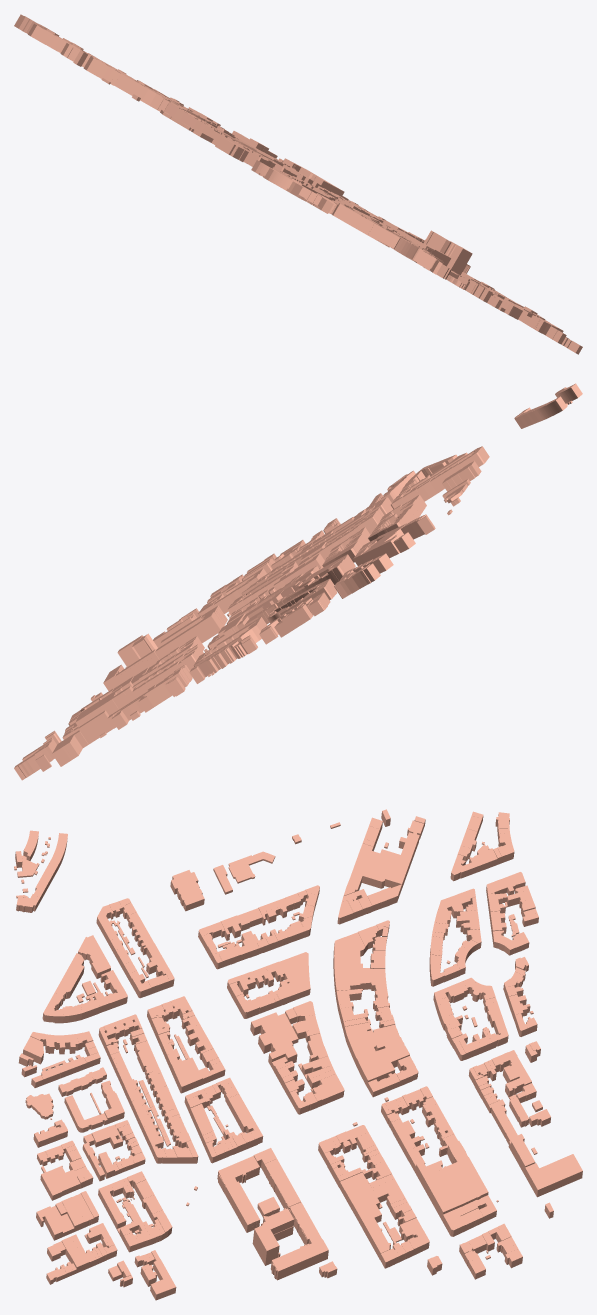
The picture shows the model from 3 angles, top to bottom: view 1: azimuth 30°, elevation 25°; view 2: azimuth 150°, elevation 25°; view 3: azimuth 270°, elevation 25°; orthographic projection. The views are drawn at different scales.
Size of the model in its own units: 537 by 400 by 670.
